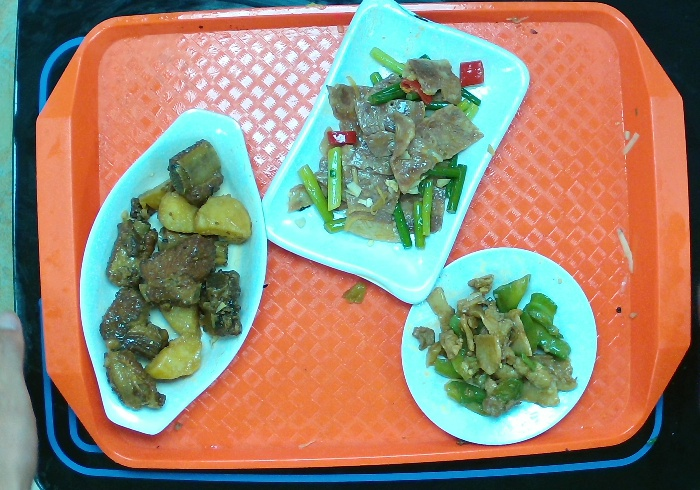RJxy-Si_Fang_Ao_Bian_Wan: (268, 1, 527, 301)
RJxy-Xiao_Yuan_Die: (400, 239, 602, 448)
RJxy-Yu_Pan: (84, 107, 264, 437)
